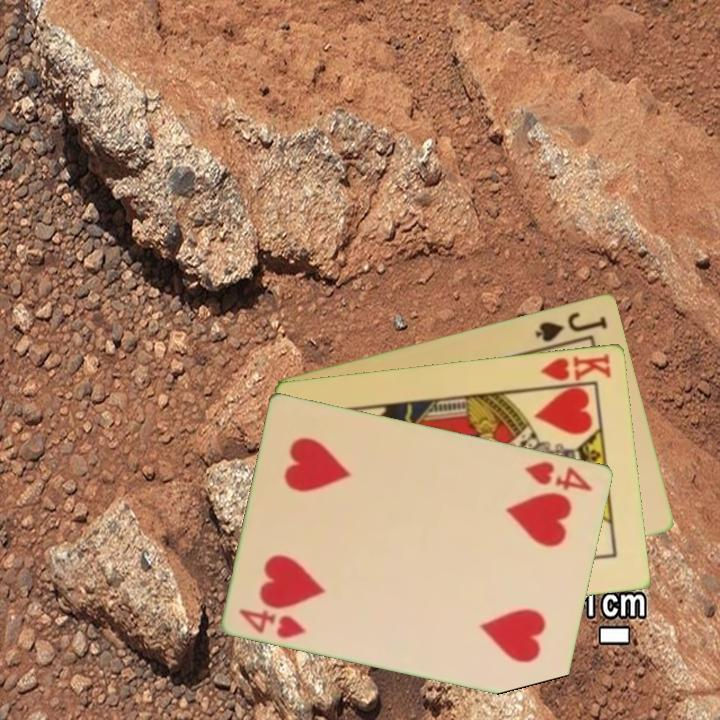4h: (521, 457, 596, 494), (236, 605, 310, 641)
Js: (531, 308, 611, 345)
Kh: (534, 349, 614, 390)
